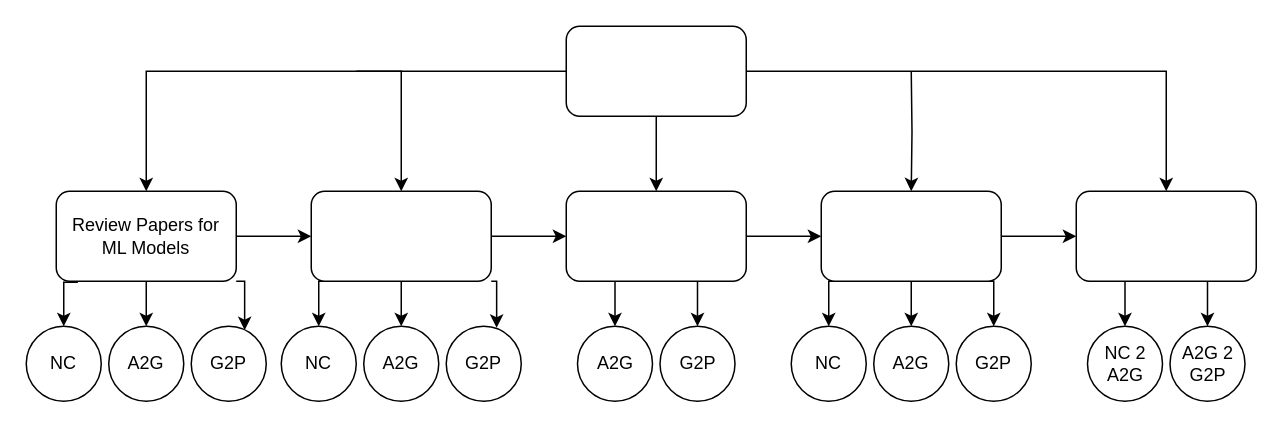
This 1283x428 diagram has some shape labels left out. The shapes that lost their labels are listed below. From the top down, each one's box as (x1, y1, x2, y2) in pixels, then its label:
(565, 25, 746, 116): Backend Pipeline
(310, 190, 491, 281): Design the ML Models
(565, 190, 746, 281): Train the ML Models
(820, 190, 1001, 281): Evaluate the Machine Learning Models
(1075, 190, 1256, 281): Pass I/O from one Model to Another
